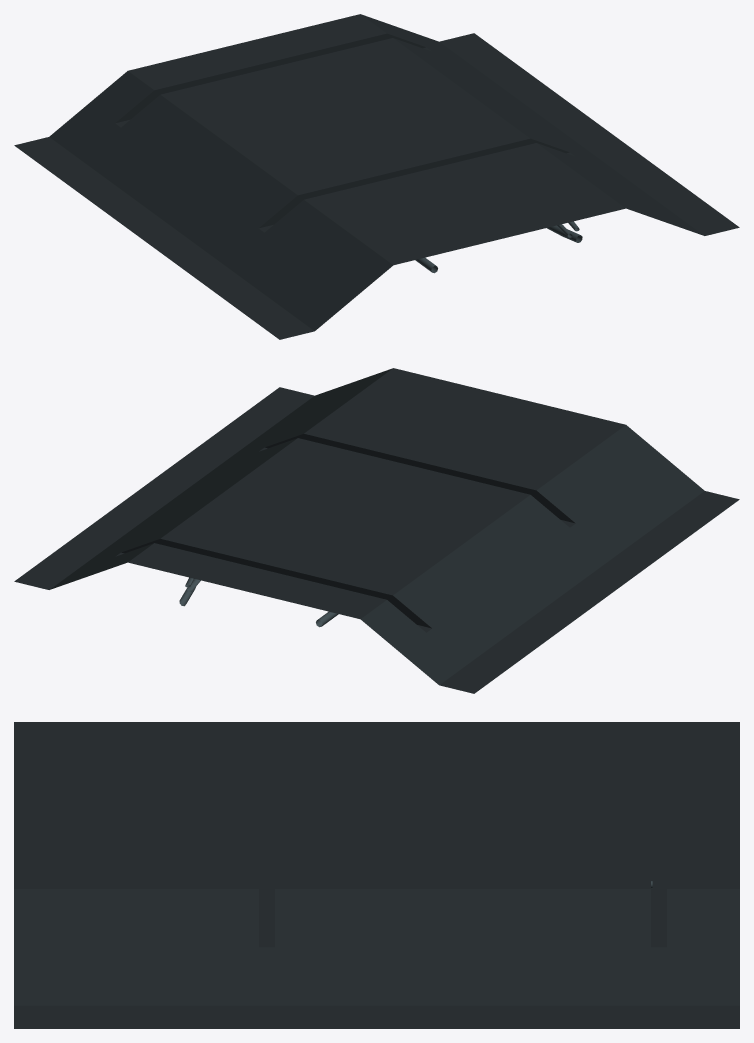
The model's file is ceiling01.fbx.
3 views of the same model, one above another, from view 1: azimuth 30°, elevation 25°; view 2: azimuth 150°, elevation 25°; view 3: azimuth 270°, elevation 25° (orthographic). The views are drawn at different scales.
Parts seen in each view (by area): view 1: ceiling01; view 2: ceiling01; view 3: ceiling01.
Part boxes in pixels (x1,y1,x2,y2): ceiling01: (14, 14, 739, 339); ceiling01: (14, 368, 739, 693); ceiling01: (14, 722, 739, 1028).
Bounding box in the file's own units: 2 × 2 × 0.1945.
